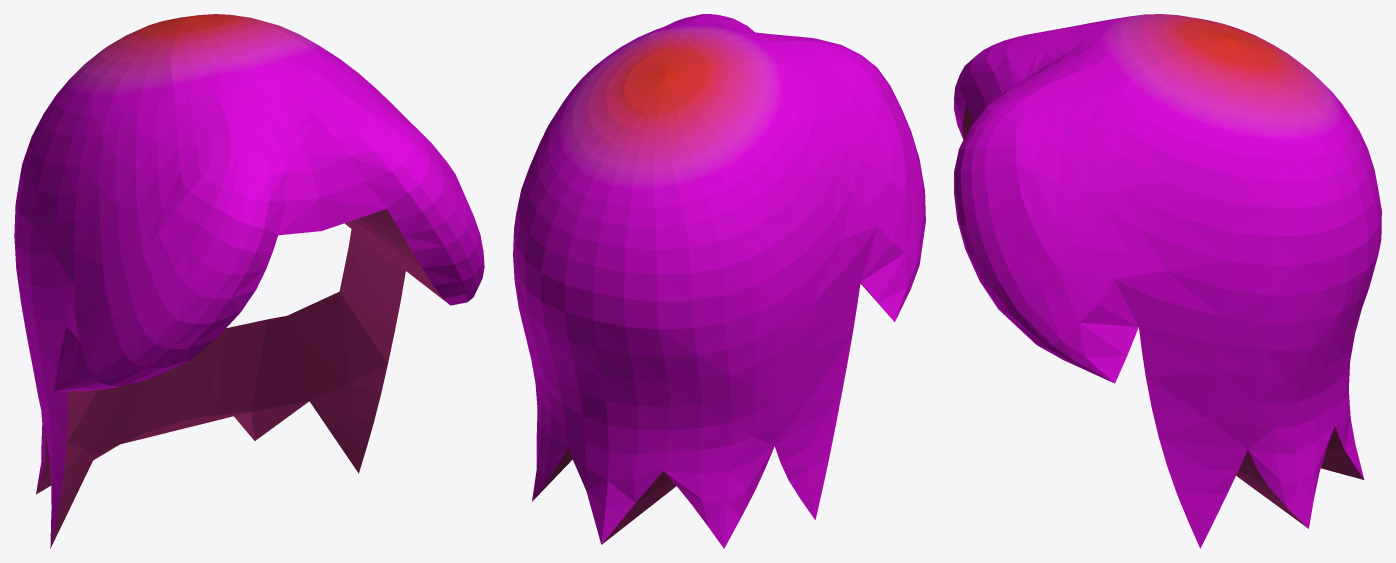
3 renders of one model, left to right at view 1: azimuth 30°, elevation 25°; view 2: azimuth 150°, elevation 25°; view 3: azimuth 270°, elevation 25°, orthographic. The views are drawn at different scales.
Parts seen in each view (by area): view 1: shape; view 2: shape; view 3: shape.
Boxes of the visible parts, x1,y1,x2,y2 form: shape: (14,14,484,548); shape: (513,14,925,548); shape: (954,14,1381,548).
Size of the model in its own units: 65.08 by 77.32 by 66.58.
